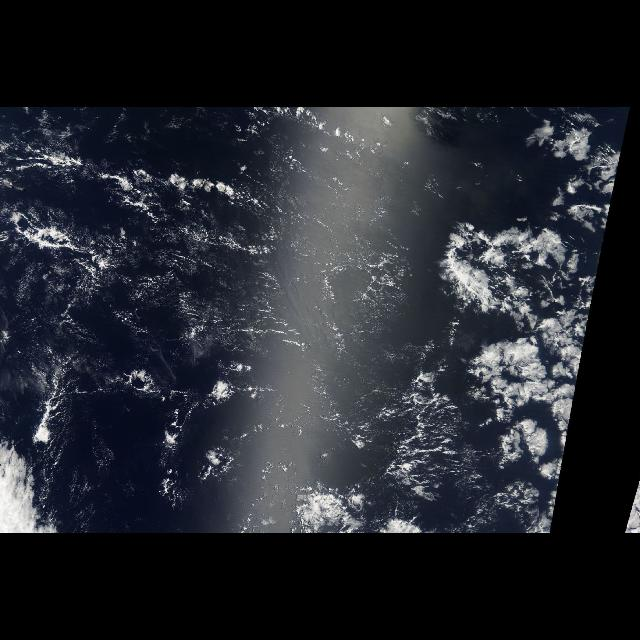Gravel: (178, 222, 410, 351)
Sugar: (86, 163, 408, 375)
